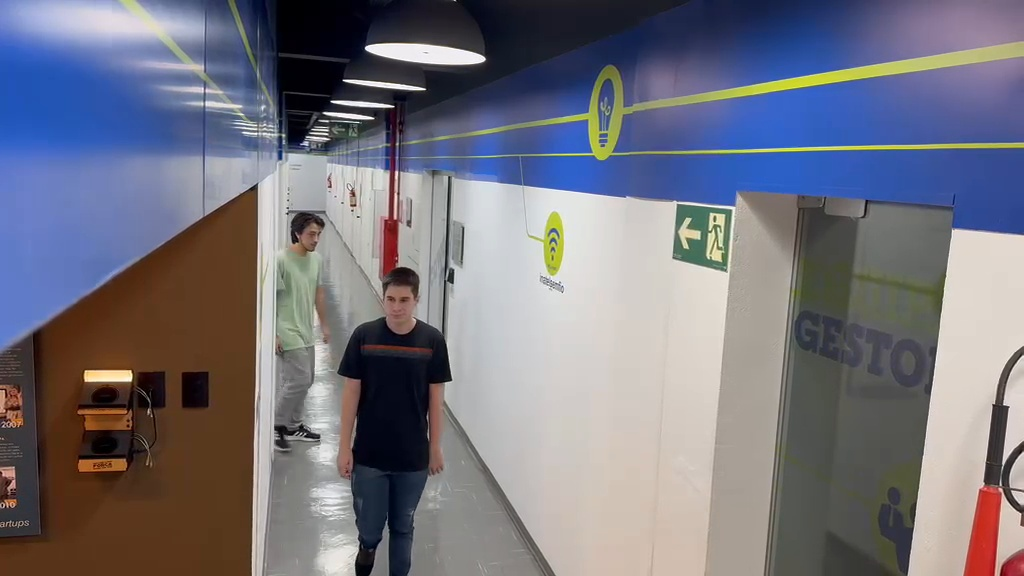person: (336, 266, 452, 573), (275, 210, 331, 445)
